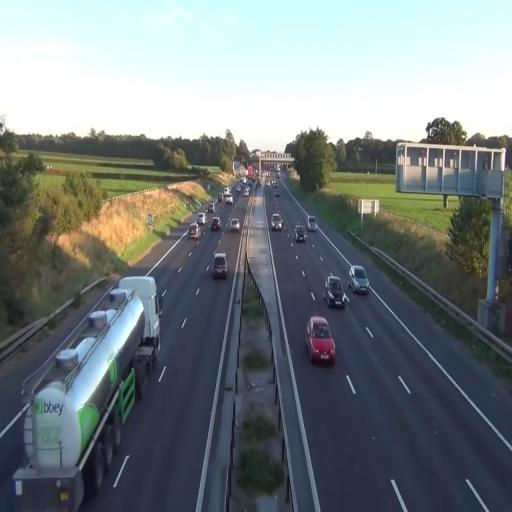vehicle: (306, 316, 336, 367), (324, 274, 348, 308), (349, 266, 369, 295), (212, 251, 228, 279), (271, 211, 283, 233), (228, 214, 241, 233), (188, 224, 201, 242), (209, 215, 221, 233), (295, 223, 306, 241), (296, 226, 307, 242), (308, 217, 318, 230)
